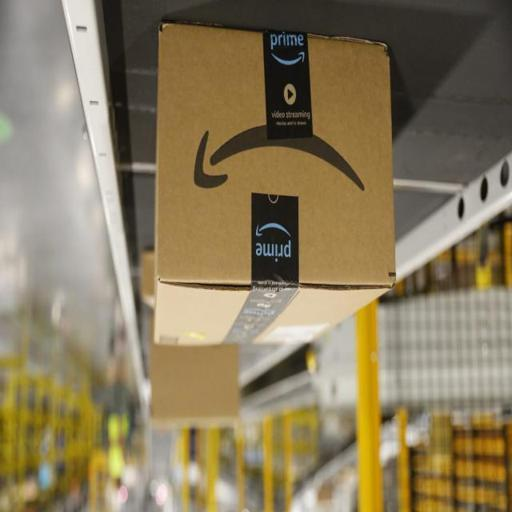Amazon: (157, 22, 397, 341)
